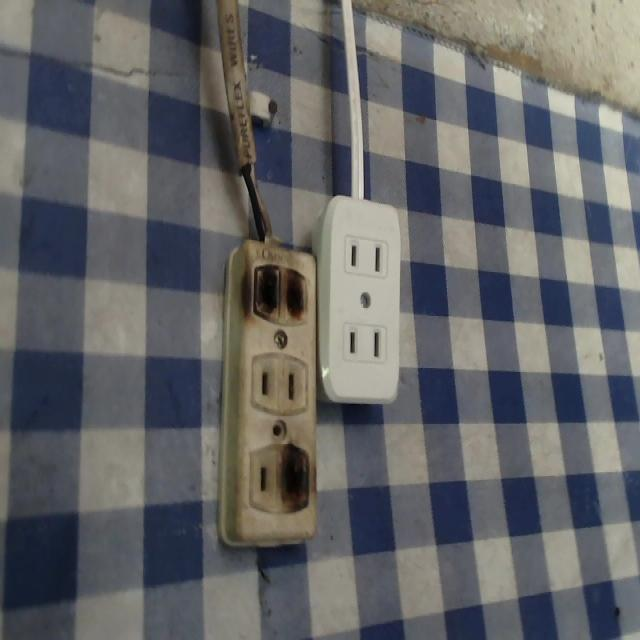-: (247, 253, 312, 329), (276, 445, 314, 508)
